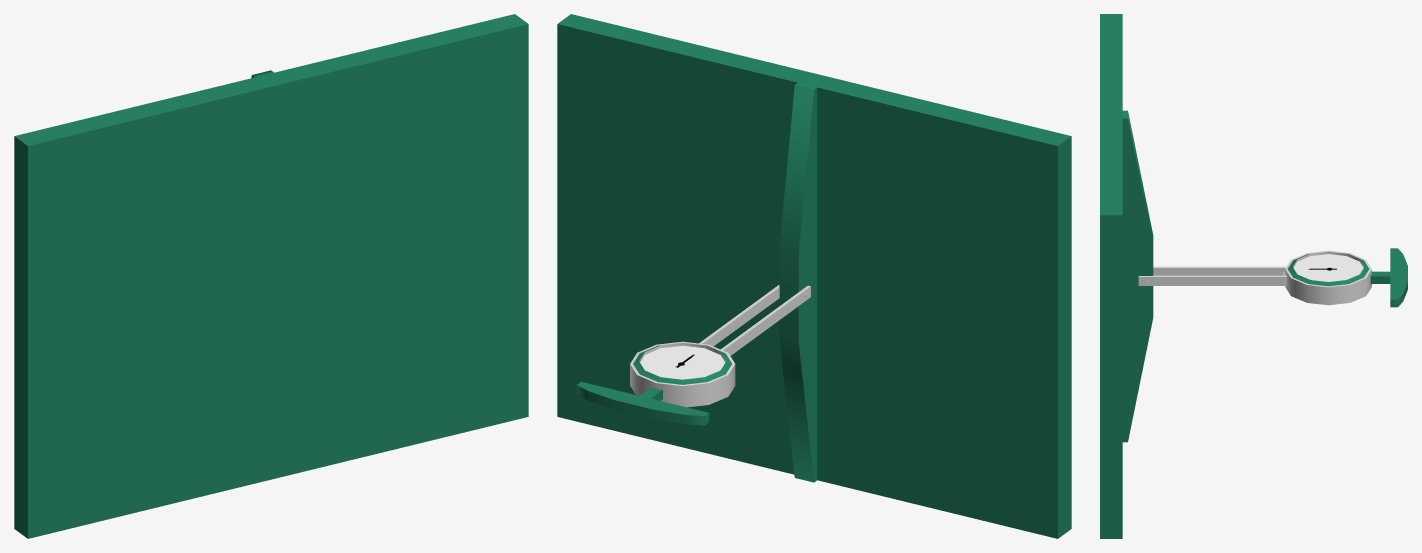
3 views of the same model, side by side, from view 1: azimuth 30°, elevation 25°; view 2: azimuth 150°, elevation 25°; view 3: azimuth 270°, elevation 25° (orthographic). The views are drawn at different scales.
Parts seen in each view (by area): view 1: Cube.001; view 2: Cube.001; view 3: Cube.001.
Boxes of the visible parts, x1,y1,x2,y2 form: Cube.001: (14, 14, 528, 538); Cube.001: (557, 14, 1071, 538); Cube.001: (1100, 14, 1407, 538).
Bounding box in the file's own units: 40 × 30 × 25.84.
